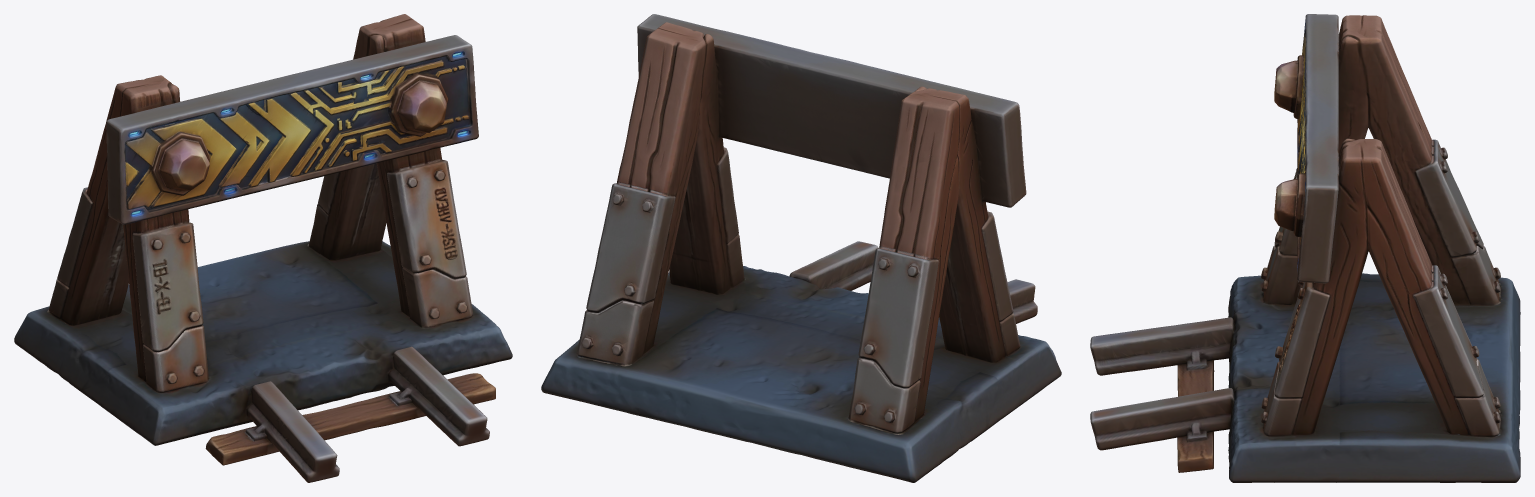
Rendered from obstacle2.glb.
The picture shows the model from 3 angles, left to right: view 1: azimuth 30°, elevation 25°; view 2: azimuth 150°, elevation 25°; view 3: azimuth 270°, elevation 25°; orthographic projection. The views are drawn at different scales.
Visible parts, largest first — view 1: tripo_node_569445b3-7644-4ab4-b5f6-d82c09c8366f; view 2: tripo_node_569445b3-7644-4ab4-b5f6-d82c09c8366f; view 3: tripo_node_569445b3-7644-4ab4-b5f6-d82c09c8366f.
Part boxes in pixels (box(x1,y1,x2,y2)): tripo_node_569445b3-7644-4ab4-b5f6-d82c09c8366f: box(14, 14, 512, 482); tripo_node_569445b3-7644-4ab4-b5f6-d82c09c8366f: box(541, 14, 1061, 482); tripo_node_569445b3-7644-4ab4-b5f6-d82c09c8366f: box(1090, 14, 1520, 482).
Bounding box in the file's own units: 0.9841 × 0.8197 × 1.
Materials: 1 (1 with a texture image).
